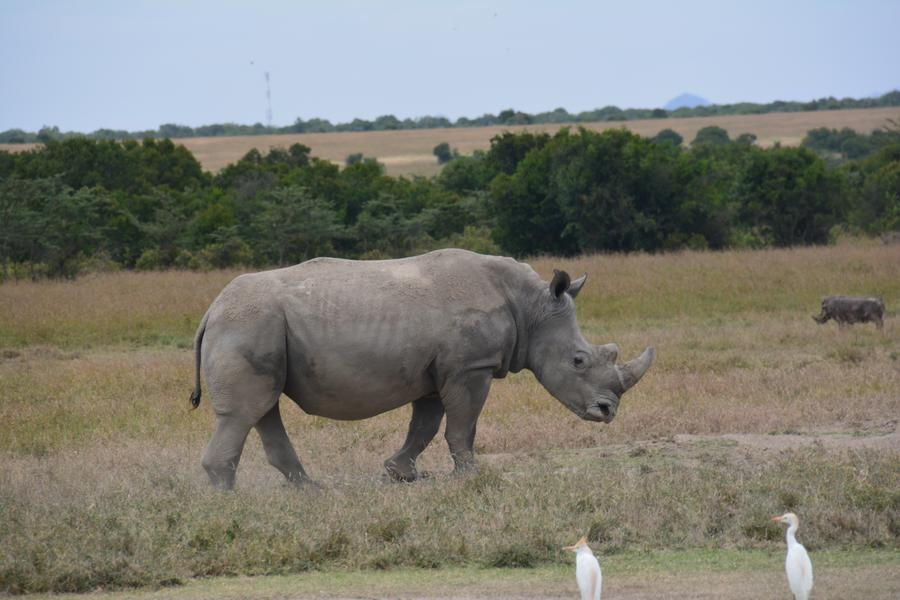rhino: (209, 251, 643, 485)
